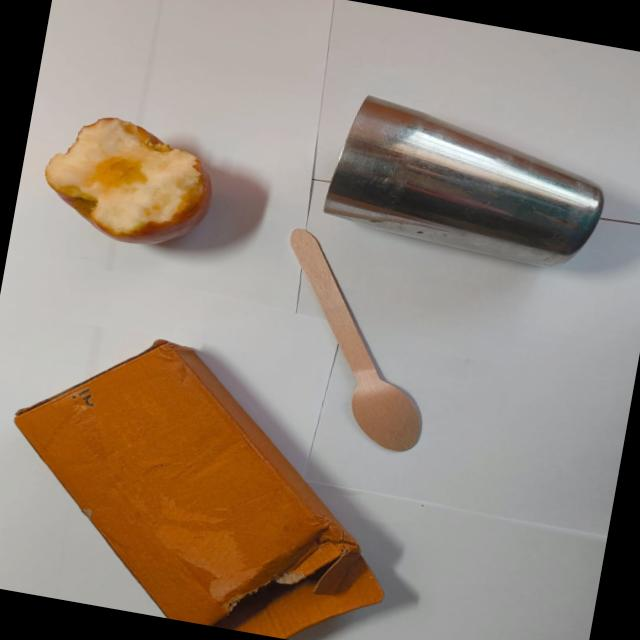Apple-Bio: (28, 100, 226, 266)
CardBoard-Bio: (0, 310, 427, 640)
Steel-NonBio: (314, 86, 618, 280)
Wooden Spoon-Bio: (252, 222, 456, 459)
